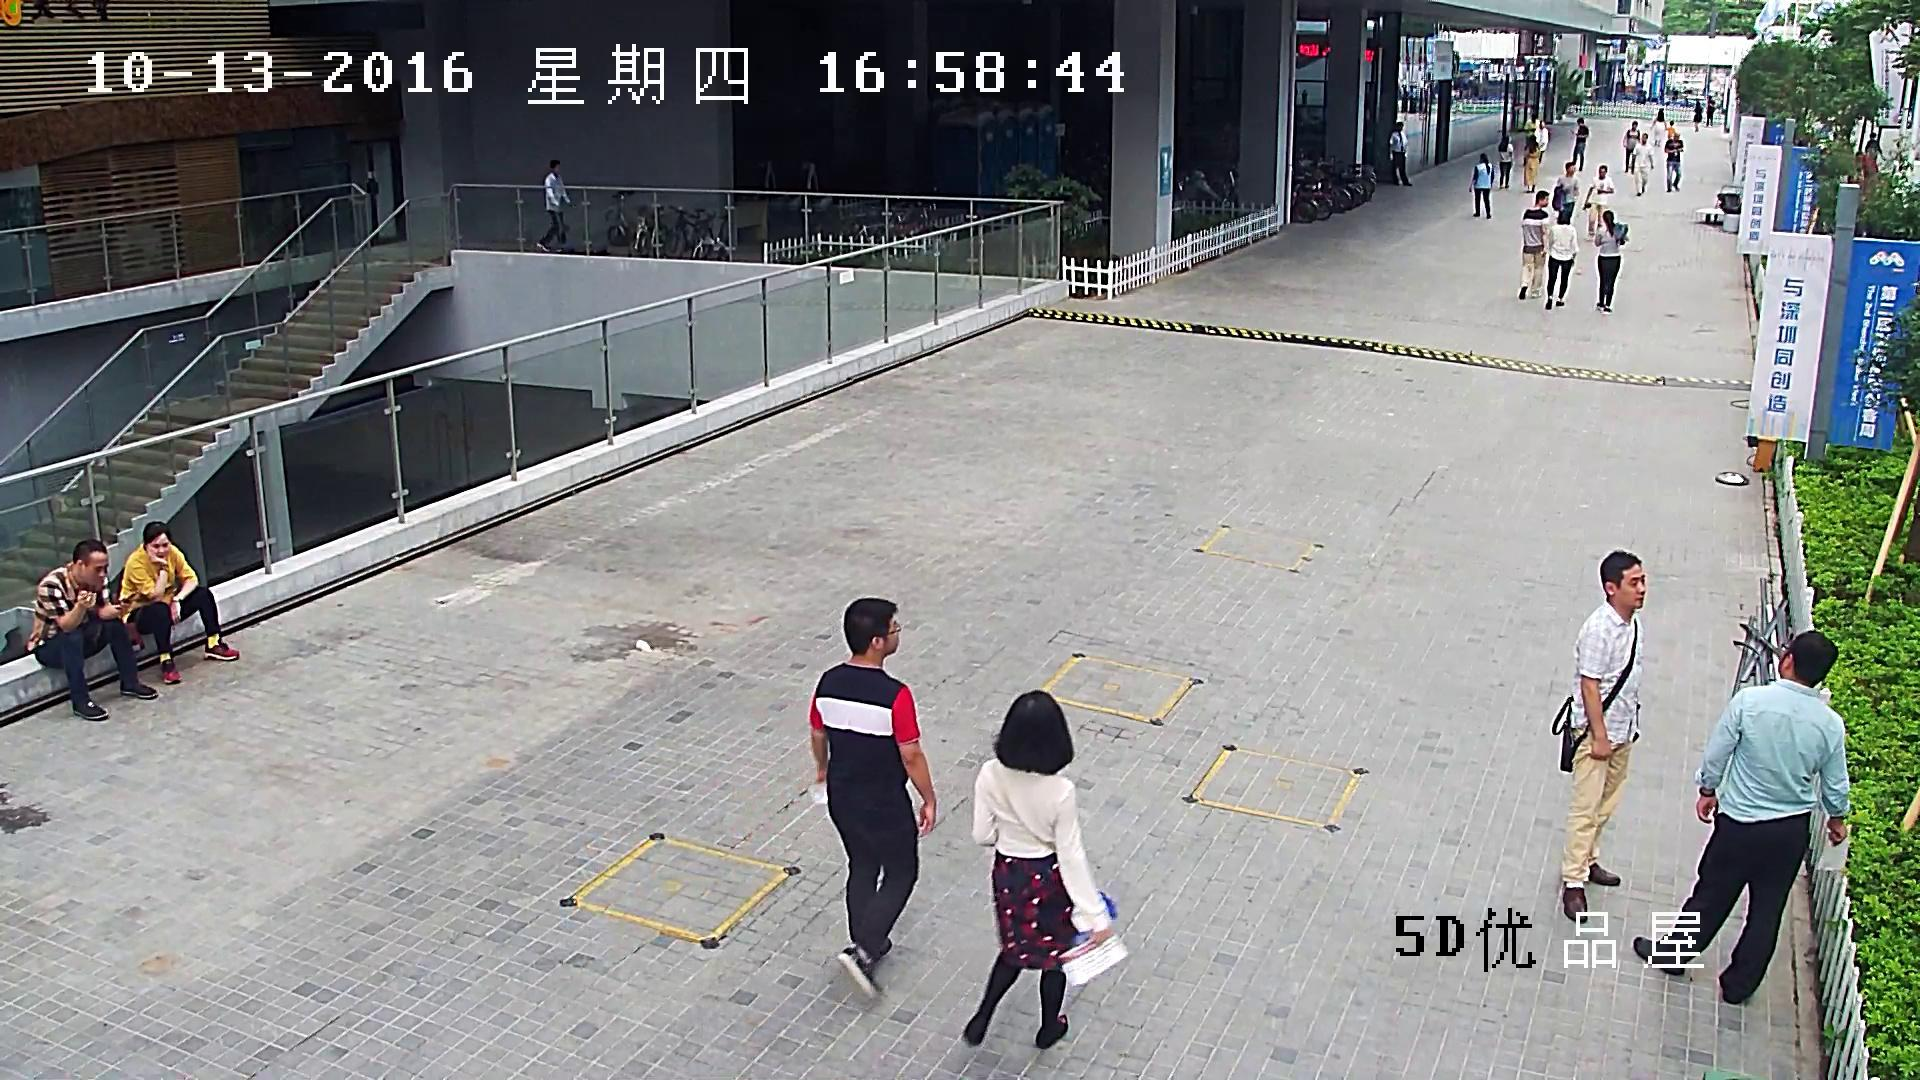person: (1632, 626, 1851, 1007), (963, 687, 1129, 1052), (806, 594, 940, 1004), (1550, 548, 1649, 922), (22, 537, 160, 724), (118, 518, 241, 686), (534, 156, 574, 255), (1593, 208, 1629, 316), (1516, 189, 1550, 302), (1544, 209, 1579, 311), (1584, 163, 1616, 243), (1467, 151, 1495, 220), (1552, 161, 1580, 224), (1388, 119, 1411, 188), (1631, 132, 1654, 198), (1662, 132, 1684, 193), (1521, 134, 1542, 194), (1622, 120, 1641, 175), (1572, 117, 1589, 172), (1498, 133, 1514, 191), (1534, 119, 1549, 167), (1650, 107, 1667, 147), (1865, 132, 1881, 162), (1522, 113, 1541, 134), (1691, 101, 1703, 133), (1705, 94, 1715, 128), (1665, 119, 1677, 147)
